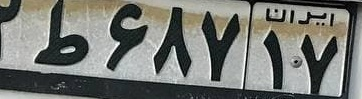character: (29, 1, 94, 69), (193, 2, 242, 84), (99, 1, 151, 72), (152, 3, 194, 81), (295, 26, 342, 95), (259, 26, 288, 92)
